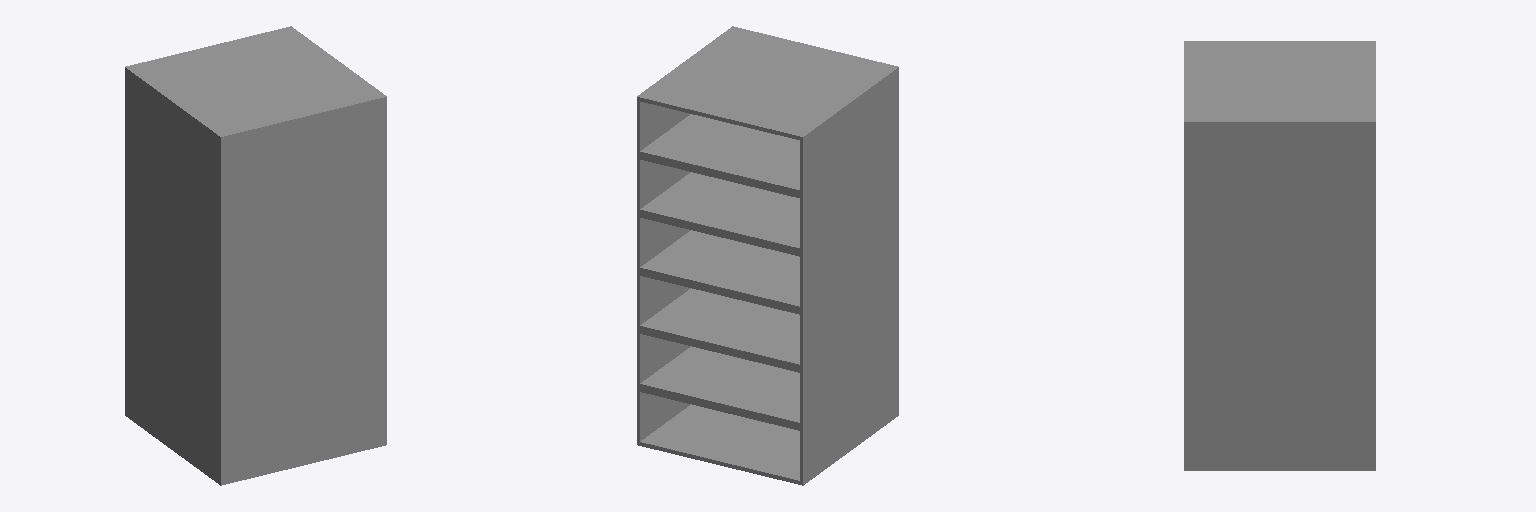
Rendered from shelf.obj.
The picture shows the model from 3 angles: view 1: azimuth 30°, elevation 25°; view 2: azimuth 150°, elevation 25°; view 3: azimuth 270°, elevation 25°; orthographic projection.
Visible parts, largest first — view 1: Cube; view 2: Cube; view 3: Cube.
Part boxes in pixels (left/top/right/bottom): Cube: left=125, top=26, right=386, bottom=485; Cube: left=637, top=26, right=898, bottom=485; Cube: left=1184, top=41, right=1375, bottom=470.
Size of the model in its own units: 1 by 2 by 1.